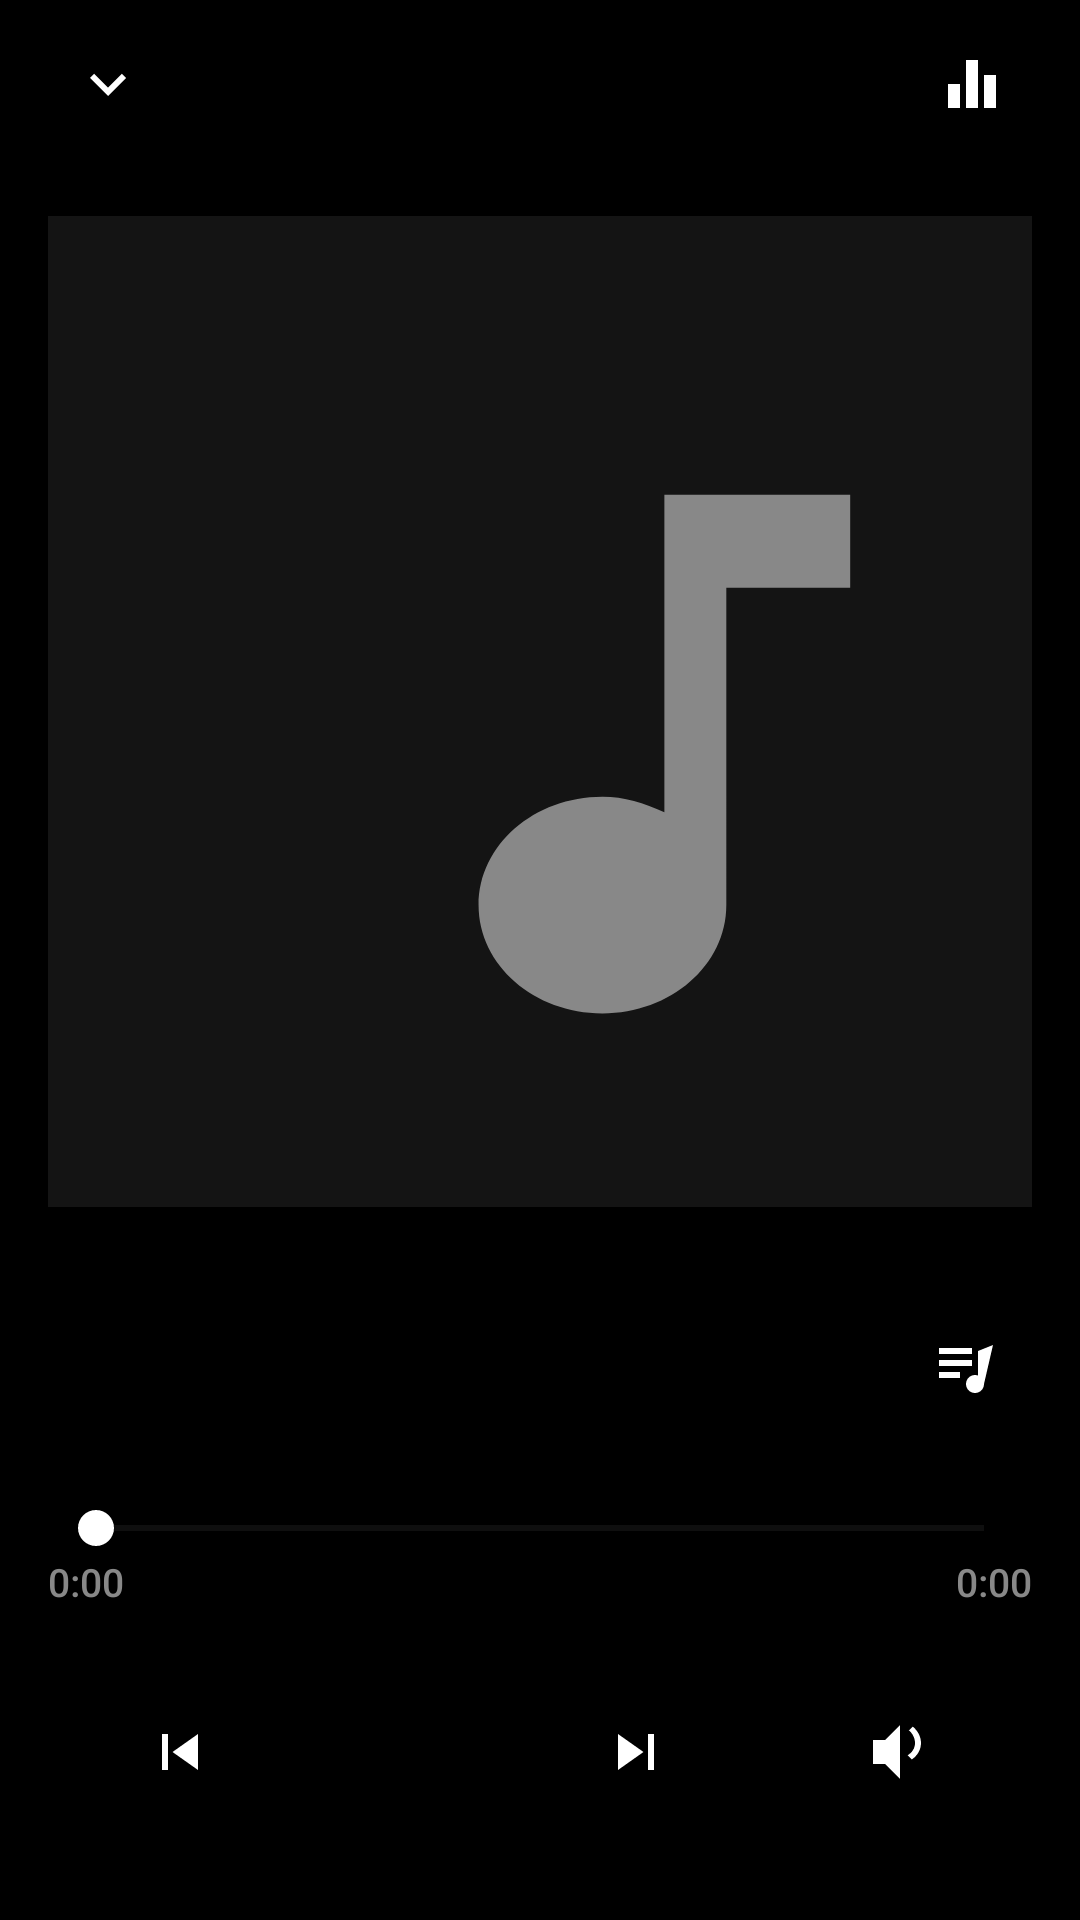

Named icons in this screenshot (1080x1920) and their bounding boxes, box(x1, y1, x2, y2):
Anterior: box(162, 1734, 198, 1770)
Cerrar: box(90, 74, 126, 96)
Cola: box(939, 1345, 993, 1393)
Ecualizador: box(948, 60, 996, 108)
Siguiente: box(618, 1734, 654, 1770)
